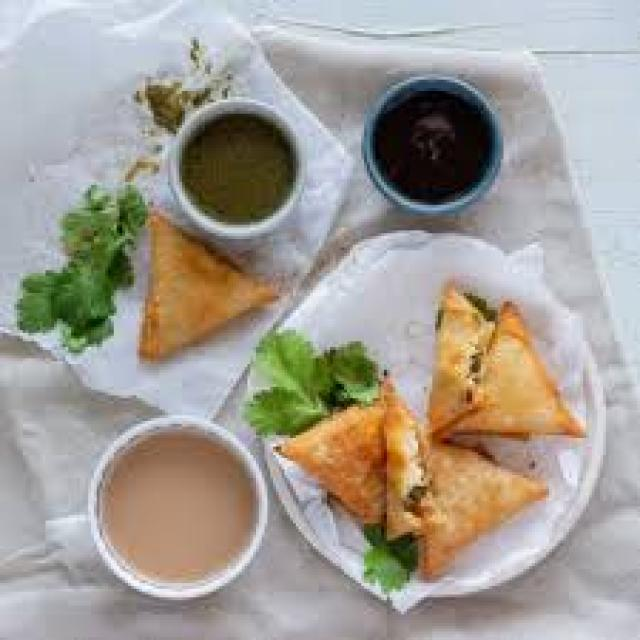SAMOSA: (142, 210, 273, 358), (415, 444, 543, 575), (452, 307, 580, 432), (276, 401, 378, 518), (432, 284, 492, 432)
